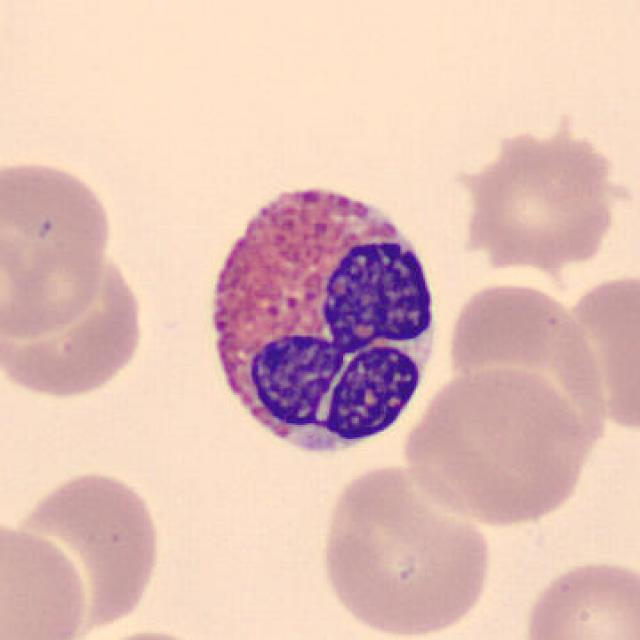Eosinophil: (188, 166, 450, 480)
RBC: (439, 273, 613, 471), (398, 361, 598, 529), (315, 460, 496, 640), (450, 111, 624, 272), (9, 464, 167, 633), (0, 243, 151, 404), (0, 153, 117, 341), (558, 264, 640, 439), (0, 515, 94, 640), (517, 553, 638, 640), (64, 626, 228, 640)
